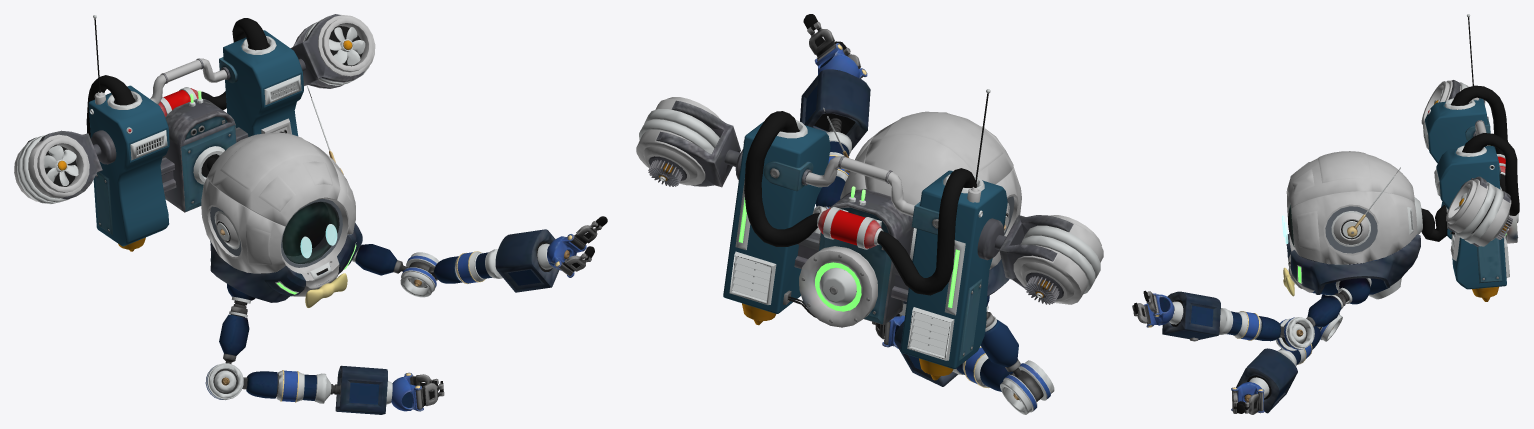
File: core-bartender.glb
3 views of the same model, side by side, from view 1: azimuth 30°, elevation 25°; view 2: azimuth 150°, elevation 25°; view 3: azimuth 270°, elevation 25° (orthographic). The views are drawn at different scales.
Visible parts, largest first — view 1: RoboBartender2; view 2: RoboBartender2; view 3: RoboBartender2.
Boxes of the visible parts, <box> form: RoboBartender2: <box>14,14,607,414</box>; RoboBartender2: <box>636,14,1103,414</box>; RoboBartender2: <box>1132,14,1519,414</box>.
Size of the model in its own units: 768 by 640 by 696.
Materials: 23 (18 with a texture image).
